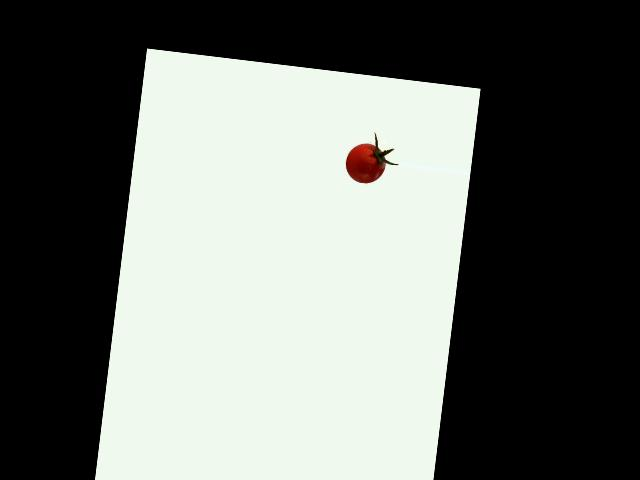tomato: (343, 142, 387, 185)
